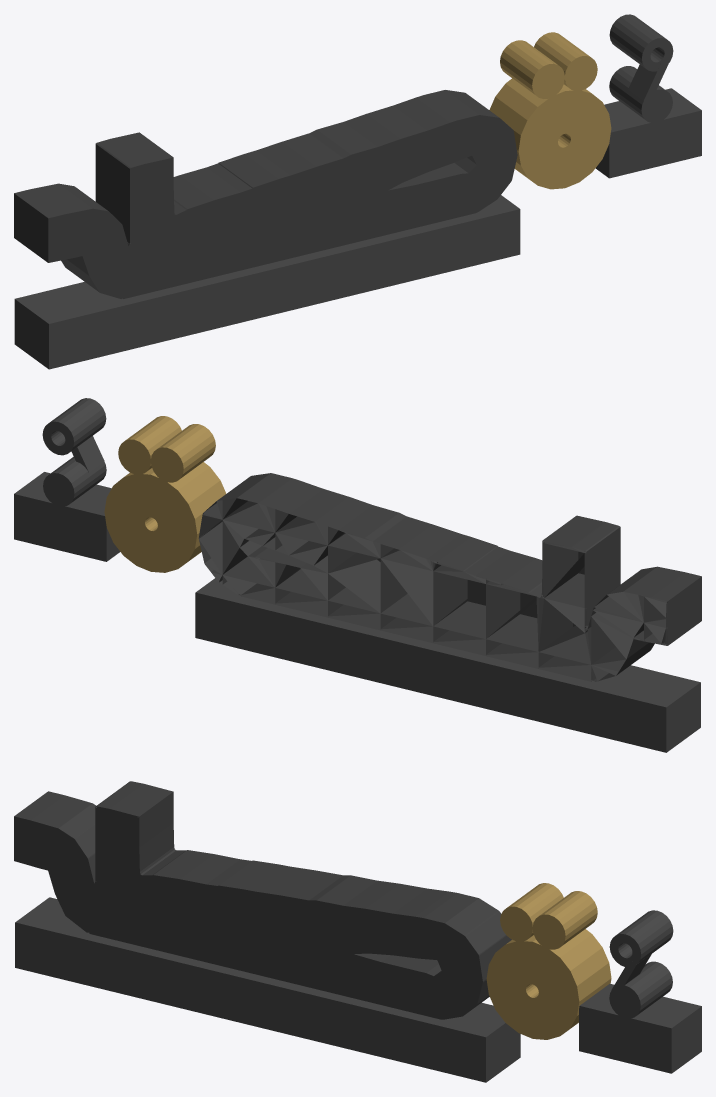
The model's file is noq3d4.fbx.
3 renders of one model, top to bottom at view 1: azimuth 30°, elevation 25°; view 2: azimuth 150°, elevation 25°; view 3: azimuth 330°, elevation 25°, orthographic.
Parts seen in each view (by area): view 1: polySurface8; view 2: polySurface8; view 3: polySurface8.
Boxes of the visible parts, x1,y1,x2,y2 form: polySurface8: (14,14,701,369); polySurface8: (14,398,701,752); polySurface8: (14,781,701,1082).
Size of the model in its own units: 15.89 by 4.22 by 1.45.
